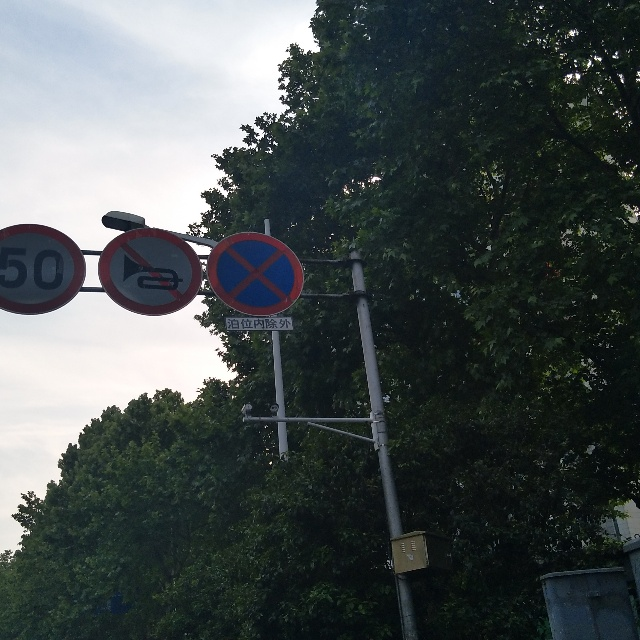nohonk: (112, 239, 188, 304)
stop: (215, 239, 299, 307)
